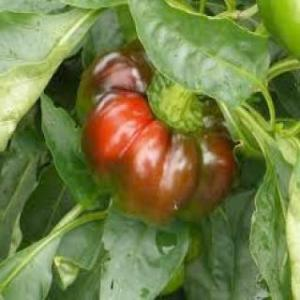bell_pepper: (66, 38, 262, 242)
